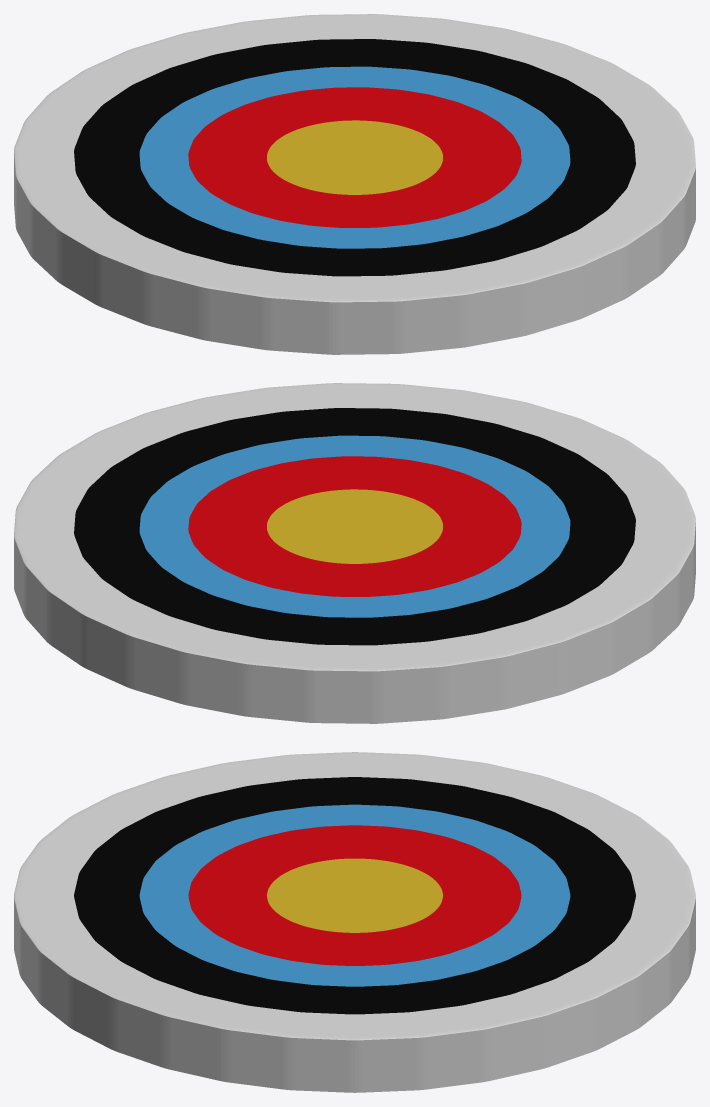
The model's file is archery_target.fbx.
The picture shows the model from 3 angles, top to bottom: view 1: azimuth 30°, elevation 25°; view 2: azimuth 150°, elevation 25°; view 3: azimuth 270°, elevation 25°; orthographic projection.
Visible parts, largest first — view 1: Cylinder; view 2: Cylinder; view 3: Cylinder.
Boxes of the visible parts, <box> form: Cylinder: <box>14,14,695,354</box>; Cylinder: <box>14,383,695,723</box>; Cylinder: <box>14,752,695,1092</box>.
Bounding box in the file's own units: 156 × 13.54 × 156.
